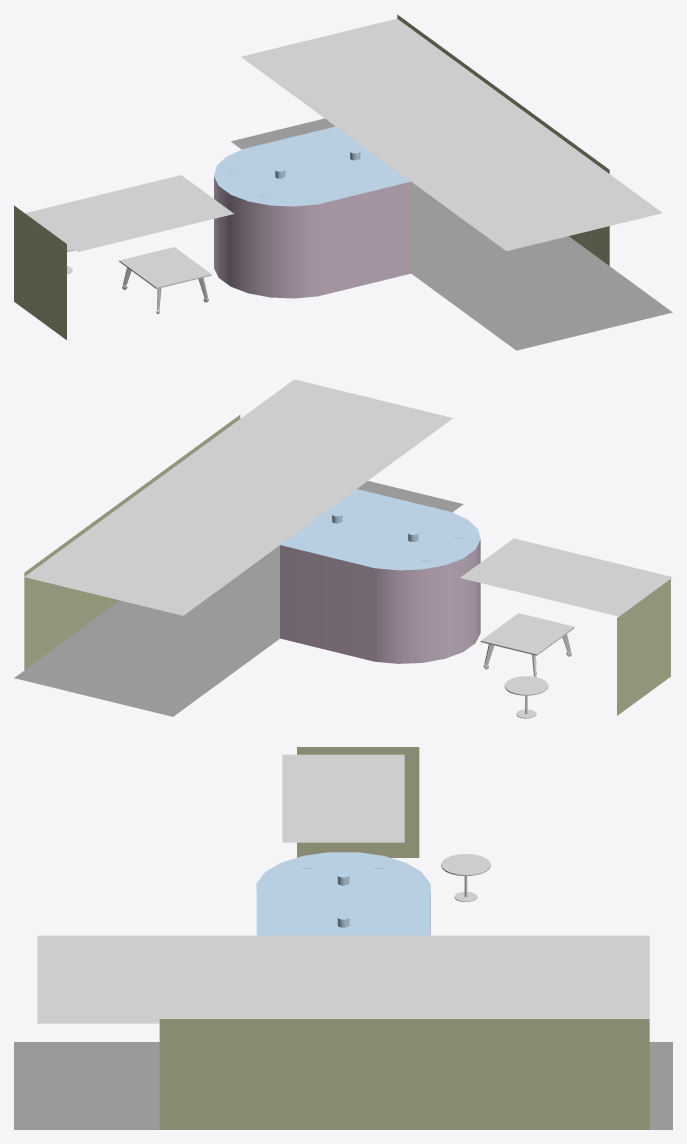
Rendered from Consultation_Env.fbx.
The picture shows the model from 3 angles, top to bottom: view 1: azimuth 30°, elevation 25°; view 2: azimuth 150°, elevation 25°; view 3: azimuth 270°, elevation 25°; orthographic projection. The views are drawn at different scales.
Visible parts, largest first — view 1: polySurface1, Walls, Meeting_Room_Roof, Roof4, Roof5, Roof1, Roof3, Roof2, Roof, Wall, Table, Wall1; view 2: polySurface1, Walls, Meeting_Room_Roof, Roof5, Roof3, Roof, Roof4, Roof2, Roof1, Wall, Wall4, Table (+2 smaller); view 3: polySurface1, Wall3, Wall1, Wall4, Walk5, Meeting_Room_Roof, Roof, Roof5, Roof4, Roof2, Roof3, Roof1 (+2 smaller).
Part boxes in pixels (x1,y1,x2,y2): polySurface1: (231, 118, 672, 350); Walls: (214, 176, 411, 298); Meeting_Room_Roof: (214, 126, 410, 206); Roof4: (400, 135, 609, 212); Roof5: (453, 174, 662, 251); Roof1: (347, 96, 555, 173); Roof3: (241, 18, 449, 95); Roof2: (294, 57, 502, 134); Roof: (25, 175, 233, 251); Wall: (14, 205, 66, 339); Table: (119, 247, 211, 313); Wall1: (556, 131, 609, 265); polySurface1: (14, 481, 463, 716); Walls: (280, 540, 480, 663); Meeting_Room_Roof: (280, 489, 480, 570); Roof5: (240, 379, 452, 457); Roof3: (25, 537, 236, 615); Roof: (460, 538, 672, 616); Roof4: (186, 419, 398, 497); Roof2: (78, 498, 290, 576); Roof1: (133, 458, 344, 536); Wall: (617, 579, 670, 715); Wall4: (24, 533, 78, 670); Table: (480, 613, 574, 677); polySurface1: (14, 1042, 672, 1129); Wall3: (404, 1019, 527, 1129); Wall1: (159, 1019, 282, 1129); Wall4: (527, 1019, 649, 1129); Walk5: (282, 1019, 404, 1129); Meeting_Room_Roof: (256, 852, 430, 935); Roof: (282, 754, 404, 842); Roof5: (37, 935, 159, 1023); Roof4: (159, 935, 282, 1018); Roof2: (404, 935, 527, 1018); Roof3: (527, 935, 649, 1018); Roof1: (282, 935, 404, 1018).
Bounding box in the file's own units: 13.12 × 2.58 × 13.45.
